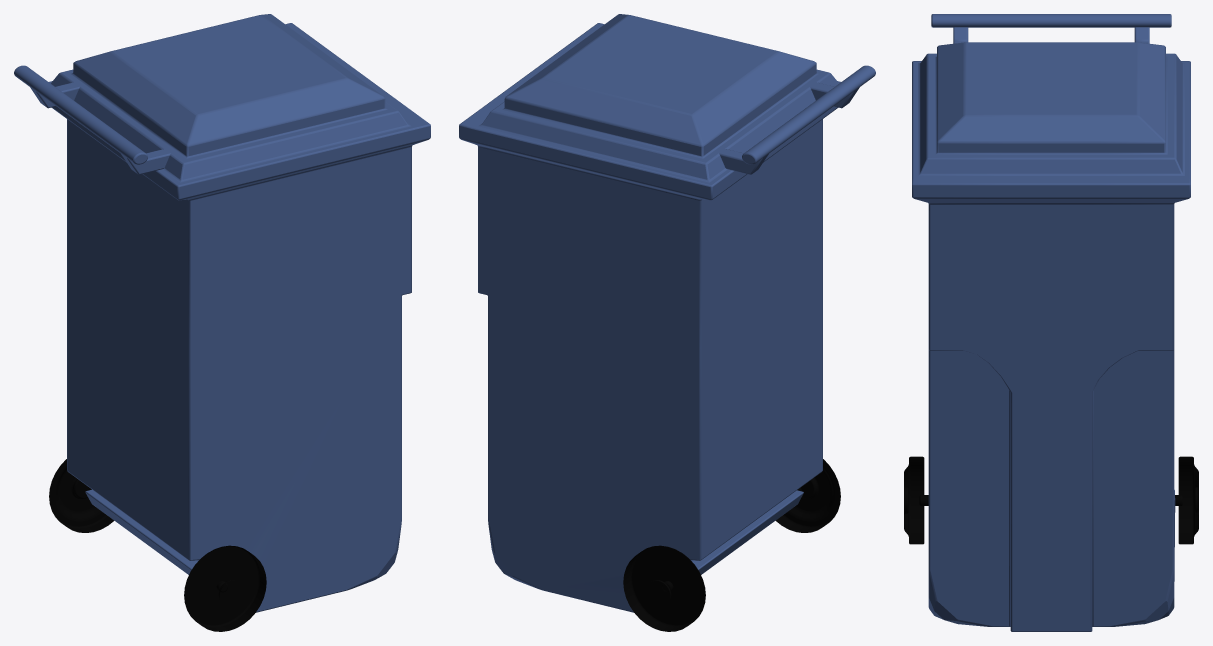
The model's file is kosz-duzy.fbx.
The picture shows the model from 3 angles, left to right: view 1: azimuth 30°, elevation 25°; view 2: azimuth 150°, elevation 25°; view 3: azimuth 270°, elevation 25°; orthographic projection.
Parts seen in each view (by area): view 1: Cube; view 2: Cube; view 3: Cube.
Boxes of the visible parts, x1,y1,x2,y2 form: Cube: (14,14,430,631); Cube: (459,14,875,631); Cube: (904,14,1198,631).
Size of the model in its own units: 270 by 446 by 240.
